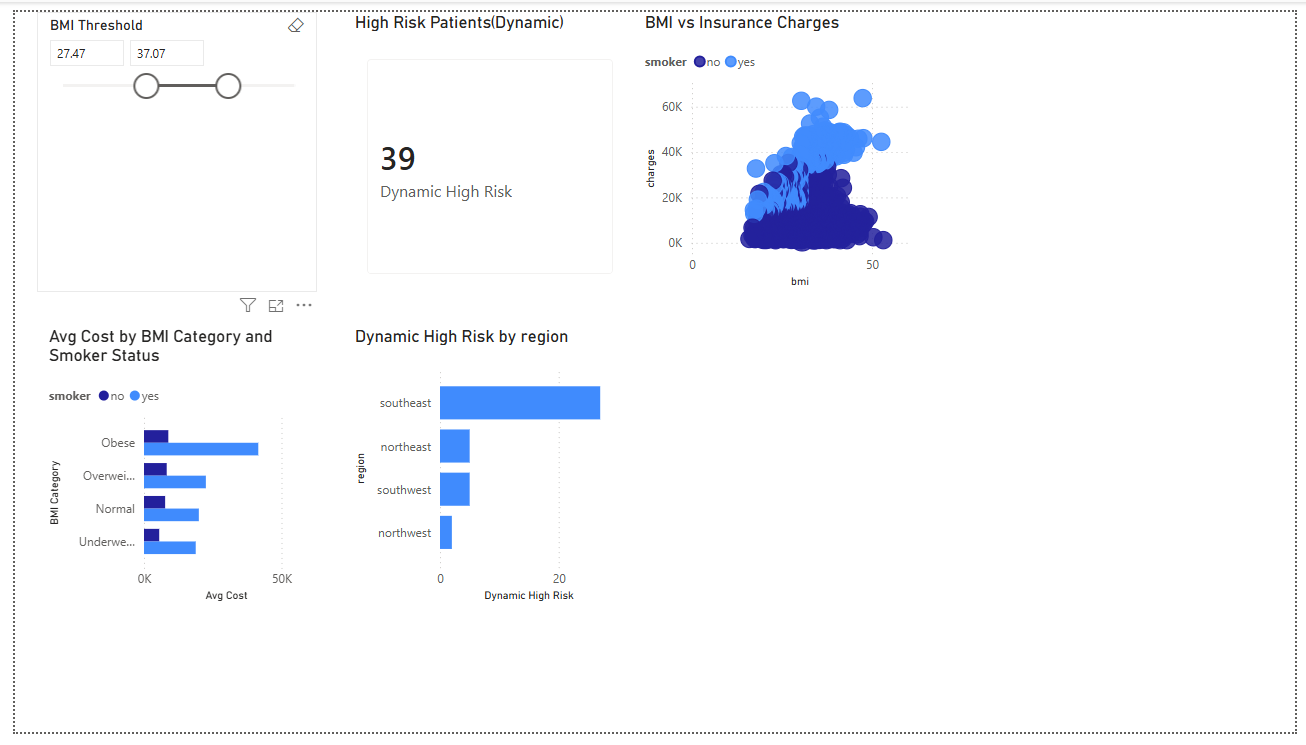

This screenshot's page, from the dashboard's own definition file:
{"tool":"powerbi","page":{"name":"Risk Analysis","canvas":[1280,720],"ordinal":2},"visuals":[{"type":"slicer","fields":{"Values":["BMI Threshold.BMI Threshold"]},"box":[21.6,0,280,280],"z":0},{"type":"cardVisual","title":"High Risk Patients(Dynamic)","fields":{"Data":["BMI Threshold.Dynamic High Risk"]},"box":[334.7,0,280,280],"z":1},{"type":"clusteredBarChart","title":"Avg Cost by BMI Category and Smoker Status","fields":{"Category":["insurance.BMI Category"],"Series":["insurance.smoker"],"Y":["insurance.Avg Cost"]},"box":[29.3,314,280,280],"z":2},{"type":"clusteredBarChart","fields":{"Category":["insurance.region"],"Y":["BMI Threshold.Dynamic High Risk"]},"box":[335,314,280,280],"z":3},{"type":"scatterChart","title":"BMI vs Insurance Charges","fields":{"Series":["insurance.smoker"],"Size":["CountNonNull(insurance.BMI Category)"],"X":["insurance.bmi"],"Y":["insurance.charges"]},"box":[625,0,280,280],"z":4}]}

Visuals, with their boxes in screenshot pixels (x1, y1, x2, y2), scaled from the page's 1280x720 canvas onto the 1306x745 screenshot:
slicer - BMI Threshold.BMI Threshold: 22/0/308/290
"High Risk Patients(Dynamic)" cardVisual: 341/0/627/290
"Avg Cost by BMI Category and Smoker Status" clusteredBarChart: 30/325/316/615
clusteredBarChart - insurance.region x BMI Threshold.Dynamic High Risk: 342/325/627/615
"BMI vs Insurance Charges" scatterChart: 638/0/923/290
